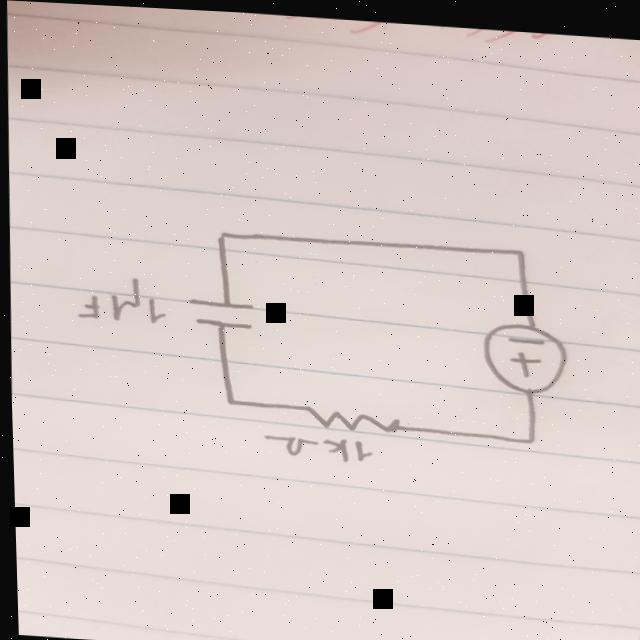capacitor: (181, 294, 260, 330)
junction: (212, 224, 232, 242), (219, 390, 243, 404), (508, 239, 528, 255), (514, 427, 534, 441)
resistor: (294, 397, 406, 436)
source: (477, 314, 575, 390)
text: (72, 271, 166, 325), (258, 423, 370, 461)
